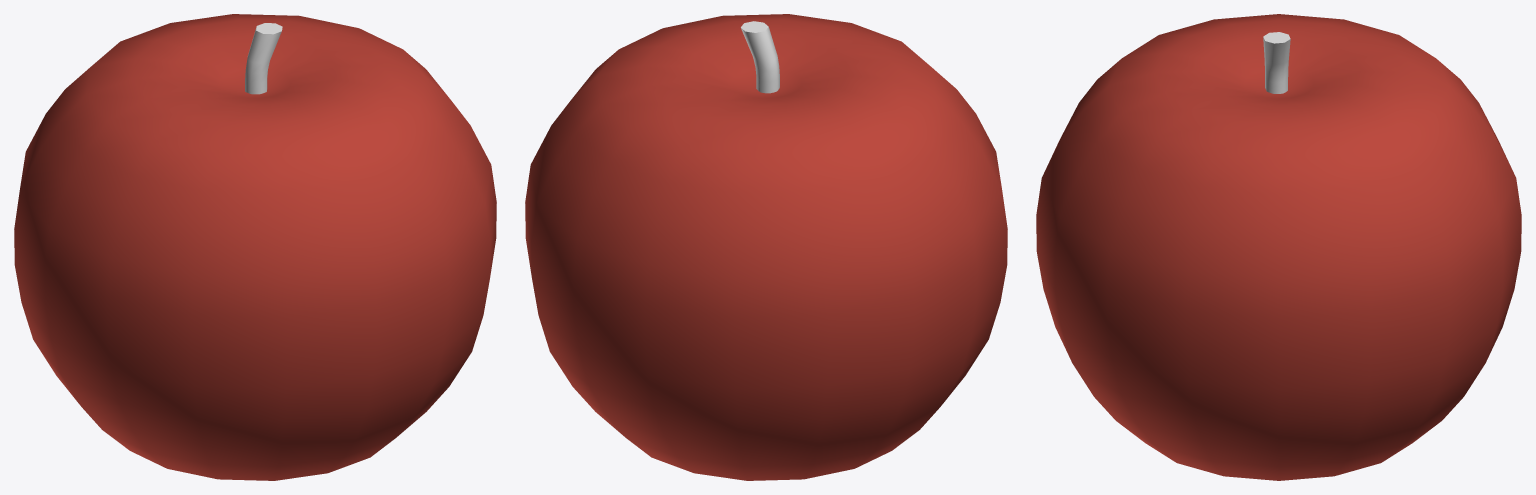
The model's file is macanaca 2.fbx.
The picture shows the model from 3 angles, left to right: view 1: azimuth 30°, elevation 25°; view 2: azimuth 150°, elevation 25°; view 3: azimuth 270°, elevation 25°; orthographic projection.
Visible parts, largest first — view 1: maca_lp, Cylinder.001; view 2: maca_lp, Cylinder.001; view 3: maca_lp, Cylinder.001.
Boxes of the visible parts, x1=… form: maca_lp: x1=14, y1=14, x2=496, y2=480; Cylinder.001: x1=245, y1=23, x2=282, y2=94; maca_lp: x1=525, y1=14, x2=1007, y2=480; Cylinder.001: x1=741, y1=21, x2=779, y2=93; maca_lp: x1=1036, y1=14, x2=1521, y2=480; Cylinder.001: x1=1263, y1=32, x2=1290, y2=93.
Size of the model in its own units: 345 by 324 by 345.
